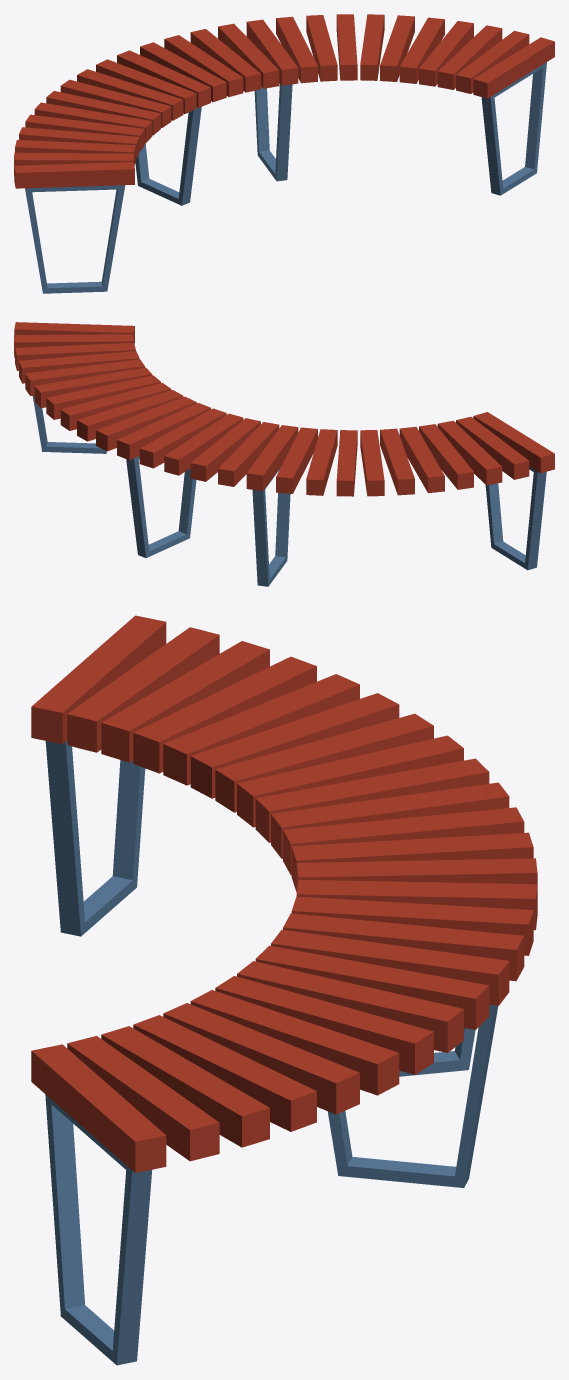
File: SM_bench_02.glb
3 views of the same model, one above another, from view 1: azimuth 30°, elevation 25°; view 2: azimuth 150°, elevation 25°; view 3: azimuth 270°, elevation 25° (orthographic). The views are drawn at different scales.
Visible parts, largest first — view 1: SM_bench_02; view 2: SM_bench_02; view 3: SM_bench_02.
Boxes of the visible parts, x1=… form: SM_bench_02: x1=14, y1=14, x2=554, y2=293; SM_bench_02: x1=14, y1=322, x2=554, y2=586; SM_bench_02: x1=31, y1=615, x2=537, y2=1365.
Bounding box in the file's own units: 2.5 × 0.5435 × 1.01.
Materials: 1 (1 with a texture image).
